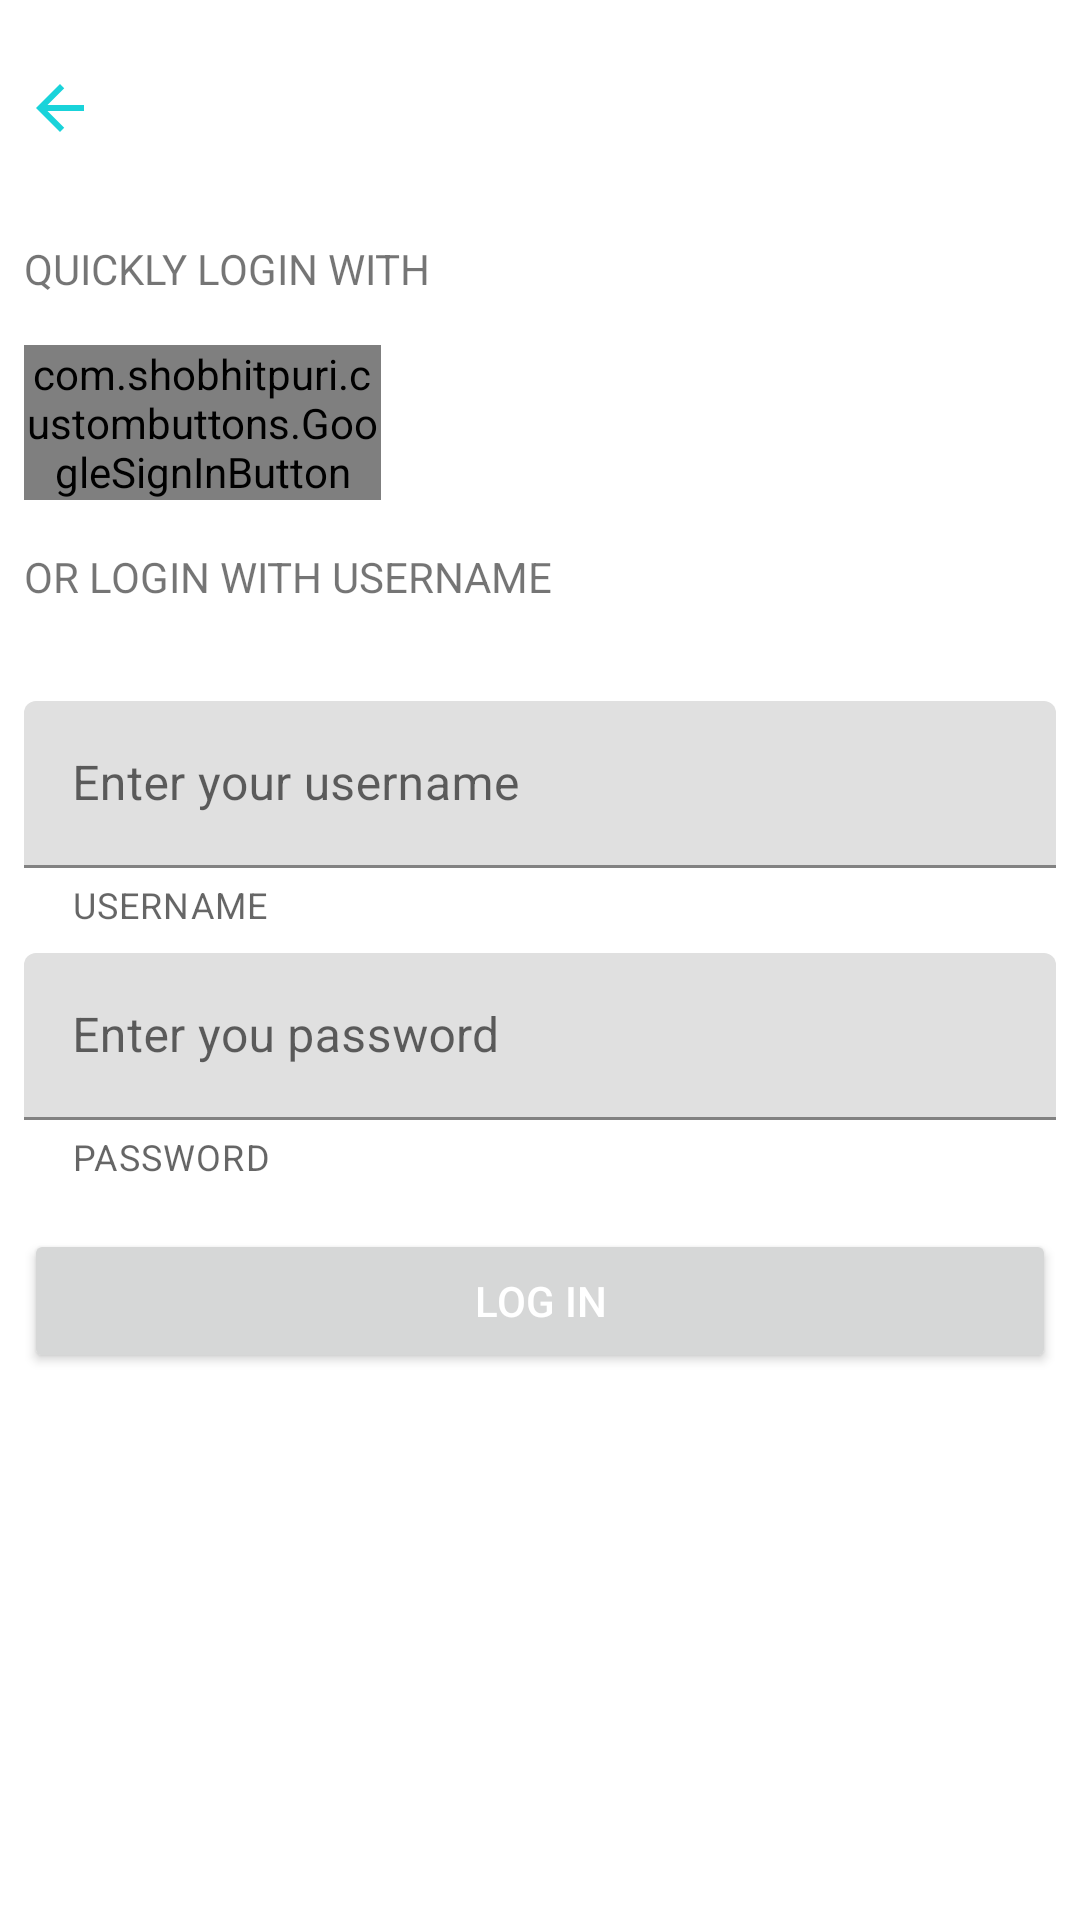

Icons on this 1080px x 1920px Android screen, each with the point to tap as [x,y]:
arrow back: [60,108]
